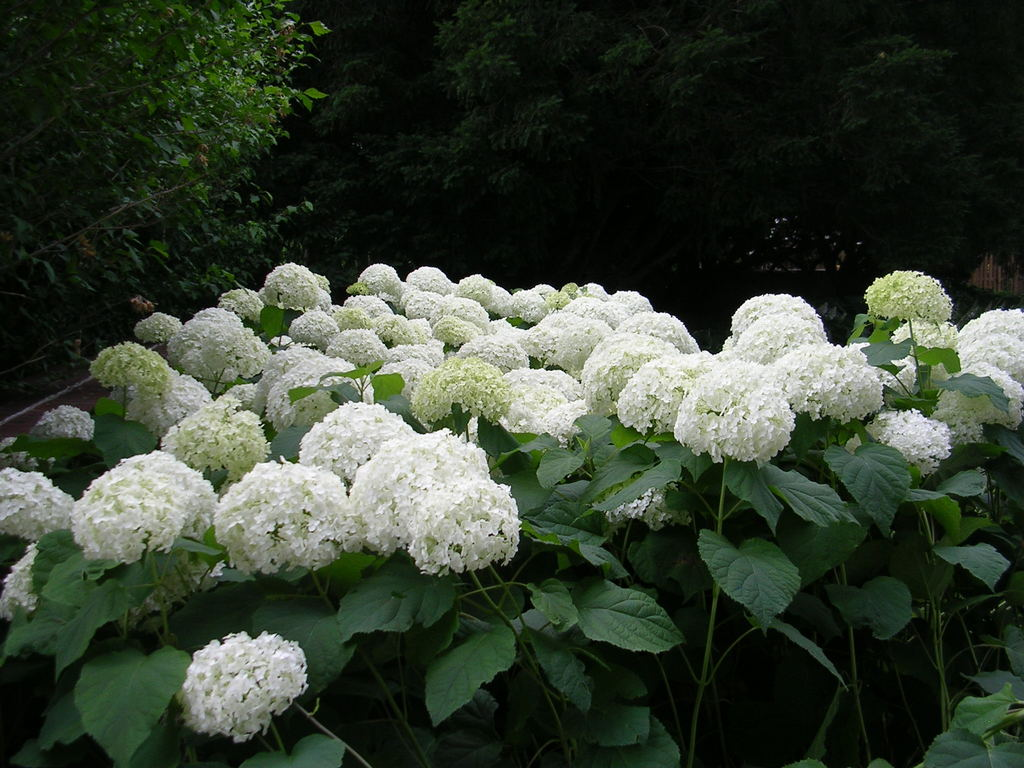Tree: (0, 0, 1024, 399)
